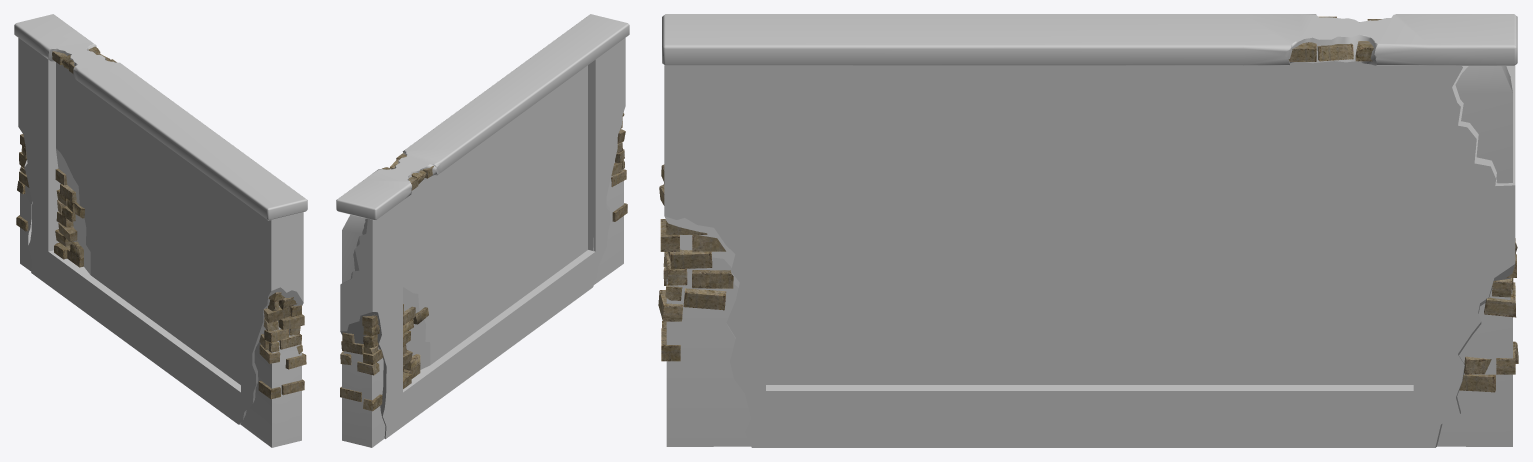
The model's file is Wall1_el5.fbx.
3 views of the same model, side by side, from view 1: azimuth 30°, elevation 25°; view 2: azimuth 150°, elevation 25°; view 3: azimuth 270°, elevation 25° (orthographic). The views are drawn at different scales.
Parts seen in each view (by area): view 1: polySurface206; view 2: polySurface206; view 3: polySurface206.
Part boxes in pixels (x1,y1,x2,y2): polySurface206: [14, 14, 307, 447]; polySurface206: [336, 14, 629, 447]; polySurface206: [658, 14, 1518, 447].
Bounding box in the file's own units: 0.5617 × 3.15 × 6.07.
